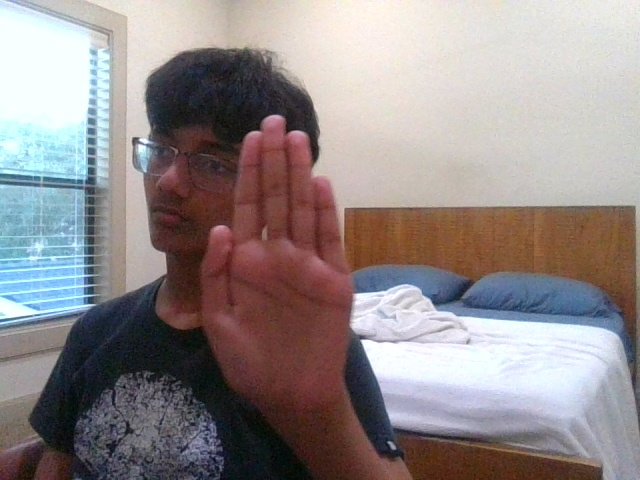hello: (199, 114, 354, 398)
